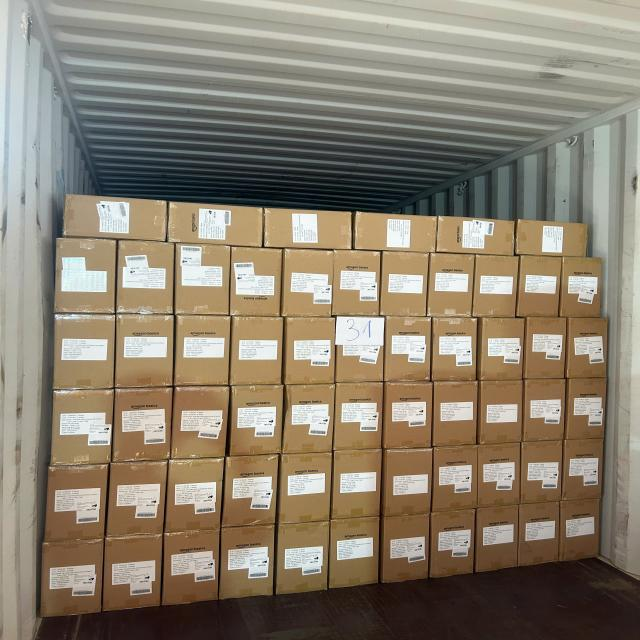Carton: (40, 538, 103, 616), (54, 236, 116, 315), (53, 312, 114, 389), (63, 196, 167, 241), (50, 390, 111, 466), (48, 464, 108, 541), (103, 535, 162, 612), (109, 459, 168, 535), (118, 239, 176, 315), (118, 316, 175, 392), (173, 384, 230, 460), (116, 390, 173, 465), (167, 532, 222, 609), (169, 459, 226, 533), (168, 202, 262, 246), (178, 315, 234, 388), (177, 242, 232, 316), (218, 524, 272, 599), (226, 457, 280, 529), (277, 523, 329, 597), (266, 208, 356, 250), (232, 384, 284, 455), (279, 454, 331, 524), (229, 317, 281, 387), (229, 247, 280, 318), (332, 448, 382, 520), (331, 520, 381, 592), (282, 382, 332, 453), (285, 249, 335, 320), (384, 446, 434, 516), (284, 316, 334, 386), (382, 513, 431, 584), (336, 316, 386, 384), (336, 383, 384, 453), (381, 383, 430, 451), (354, 212, 436, 252), (429, 512, 475, 582), (336, 249, 382, 318), (380, 251, 427, 318), (430, 318, 477, 384), (382, 317, 428, 384), (432, 446, 476, 514), (480, 316, 525, 382), (432, 383, 477, 449), (438, 215, 516, 253), (429, 253, 474, 318), (476, 504, 518, 573), (480, 380, 524, 445), (475, 253, 519, 318), (517, 255, 561, 319), (479, 444, 522, 508), (518, 218, 592, 255), (526, 378, 568, 442), (560, 502, 602, 566), (561, 256, 604, 318), (528, 317, 569, 380), (522, 502, 562, 566), (568, 318, 609, 380), (524, 441, 564, 504), (562, 441, 603, 502), (566, 378, 605, 440)
